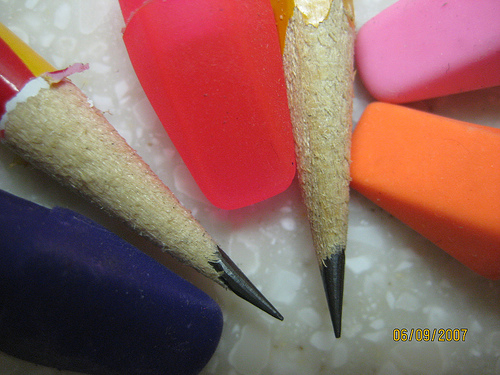pen_tip: (2, 39, 299, 329)
